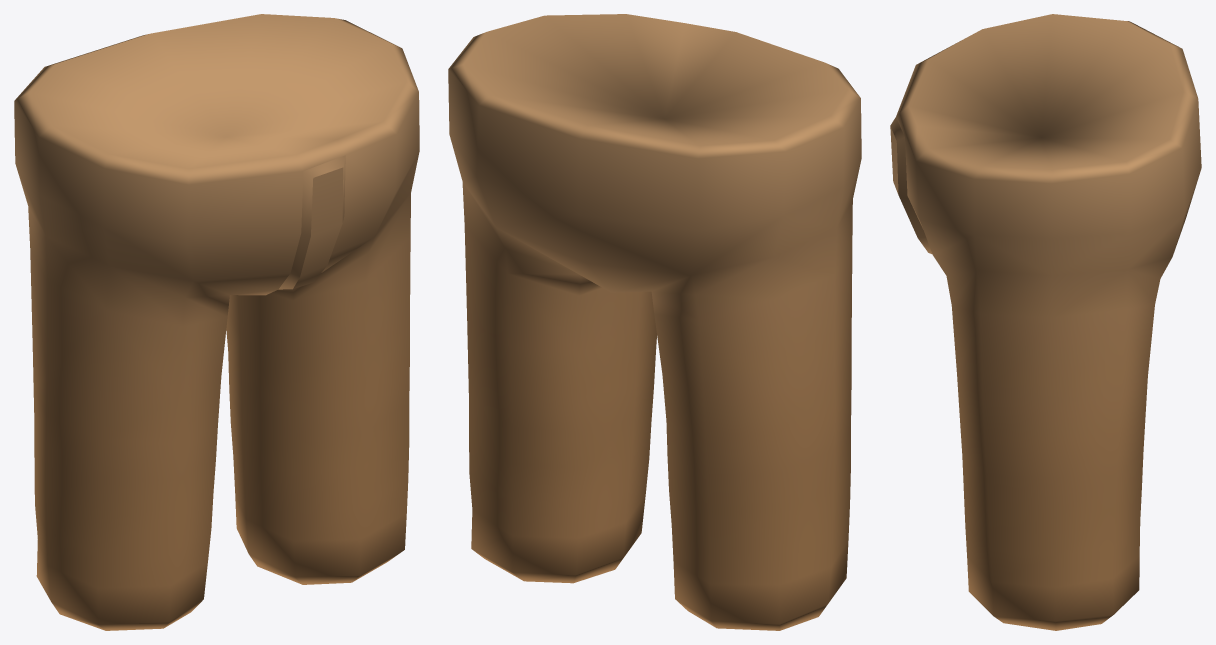
File: Bottom_30.fbx
3 views of the same model, side by side, from view 1: azimuth 30°, elevation 25°; view 2: azimuth 150°, elevation 25°; view 3: azimuth 270°, elevation 25° (orthographic). The views are drawn at different scales.
Visible parts, largest first — view 1: Bottom_30; view 2: Bottom_30; view 3: Bottom_30.
Boxes of the visible parts, box(x1,y1,x2,y2) form: Bottom_30: box(14, 14, 419, 630); Bottom_30: box(448, 14, 861, 630); Bottom_30: box(890, 14, 1201, 630).
Size of the model in its own units: 38.53 by 50.18 by 30.23.
